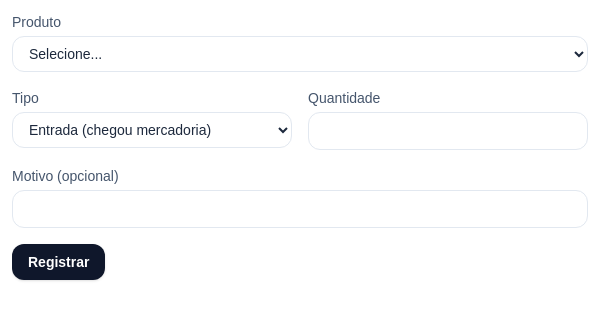
Test: MovimentacaoForm › exibe a mensagem de erro retornada pela action
Select "Picanha (estoque atual: 5)" in the dropdown labelled "Produto": (300, 54) left=12, top=36, right=588, bottom=72
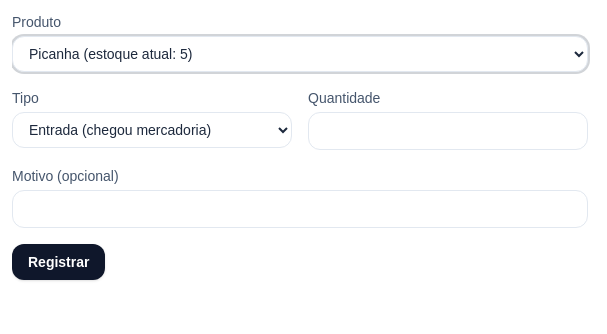
In the number field labelled "Quantidade": (448, 131) left=308, top=112, right=588, bottom=150, type "3"
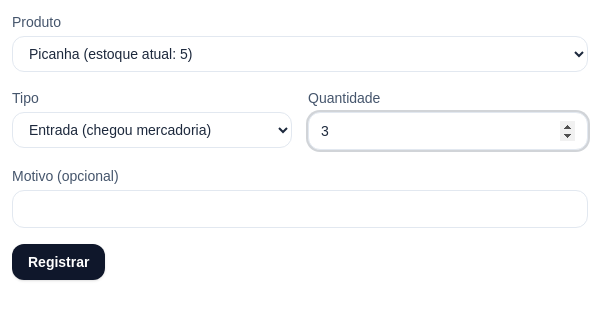
Click the button "Registrar": (59, 262) left=12, top=244, right=106, bottom=280
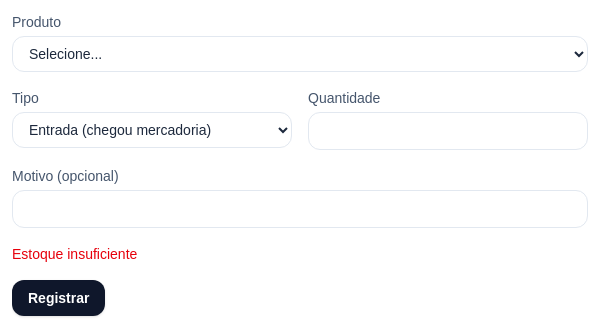
Result: the text "Estoque insuficiente" is shown at left=12, top=246, right=137, bottom=262
